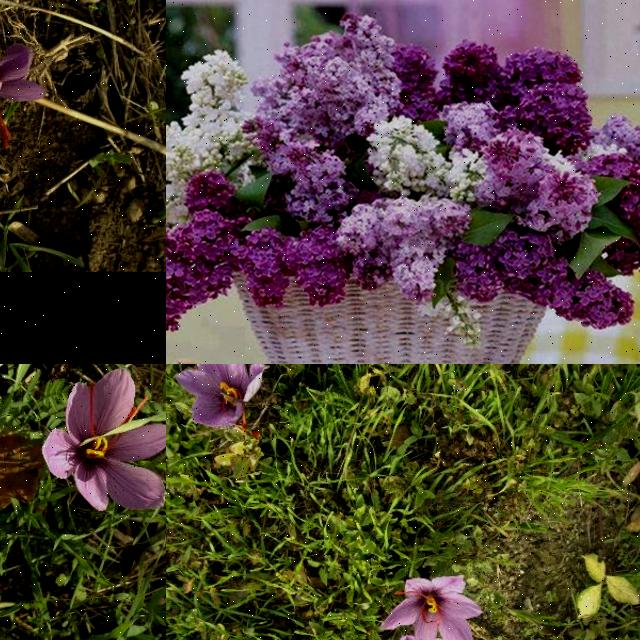flower: (42, 368, 166, 511), (378, 576, 484, 640), (174, 364, 269, 428), (0, 45, 48, 149)
